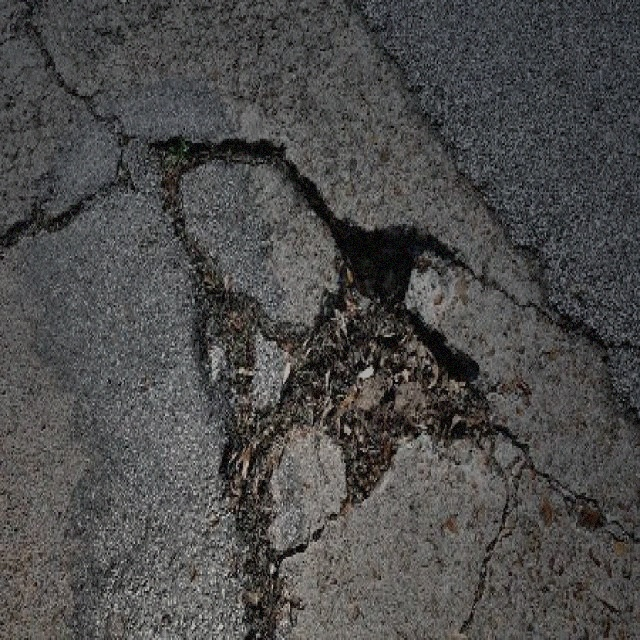pothole: (148, 128, 496, 574)
